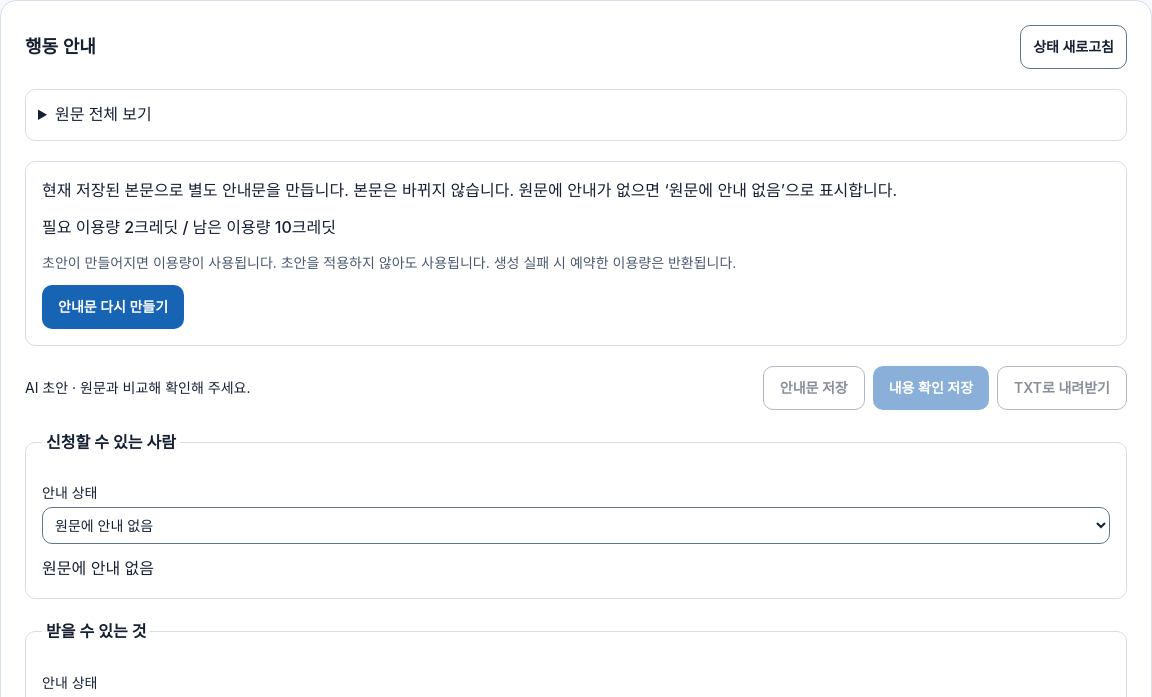
Test: 행동 안내 화면 › 409 뒤 새로고침해도 로컬 편집을 최신 revision으로 재저장하지 않는다
The width and height of the screenshot is (1152, 697).
Select "확인 필요" in the dropdown named "신청할 수 있는 사람 안내 상태": (576, 526) [42,507,1110,544]
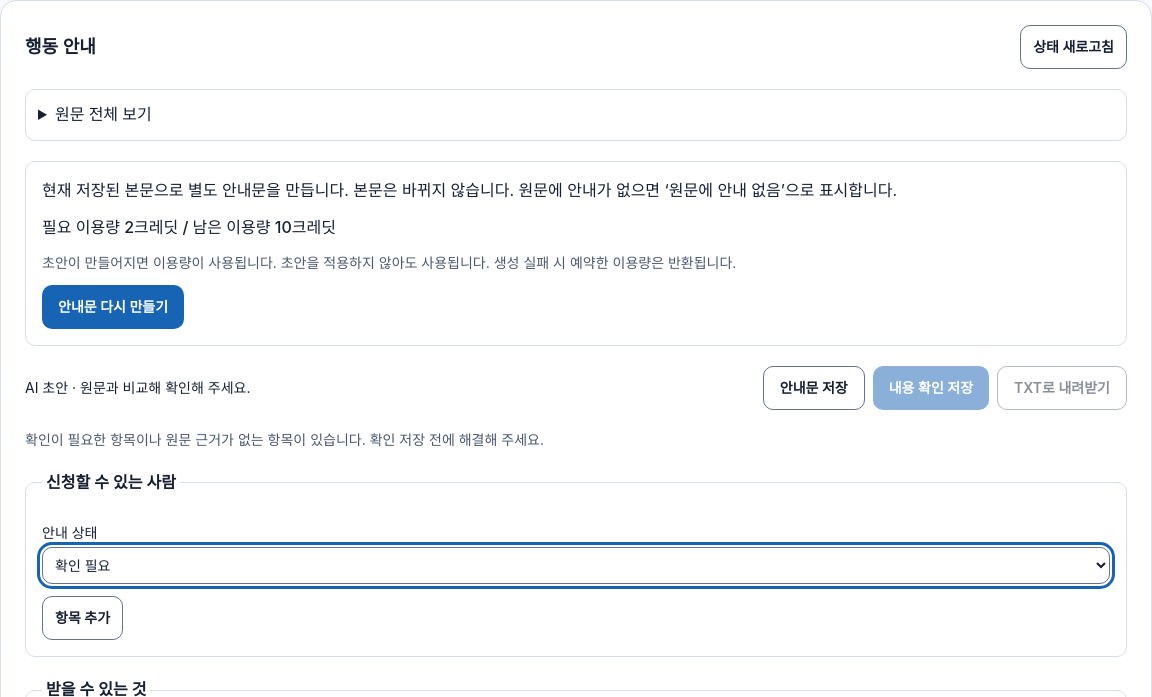
Click the button "항목 추가": (83, 618) [42,596,123,640]
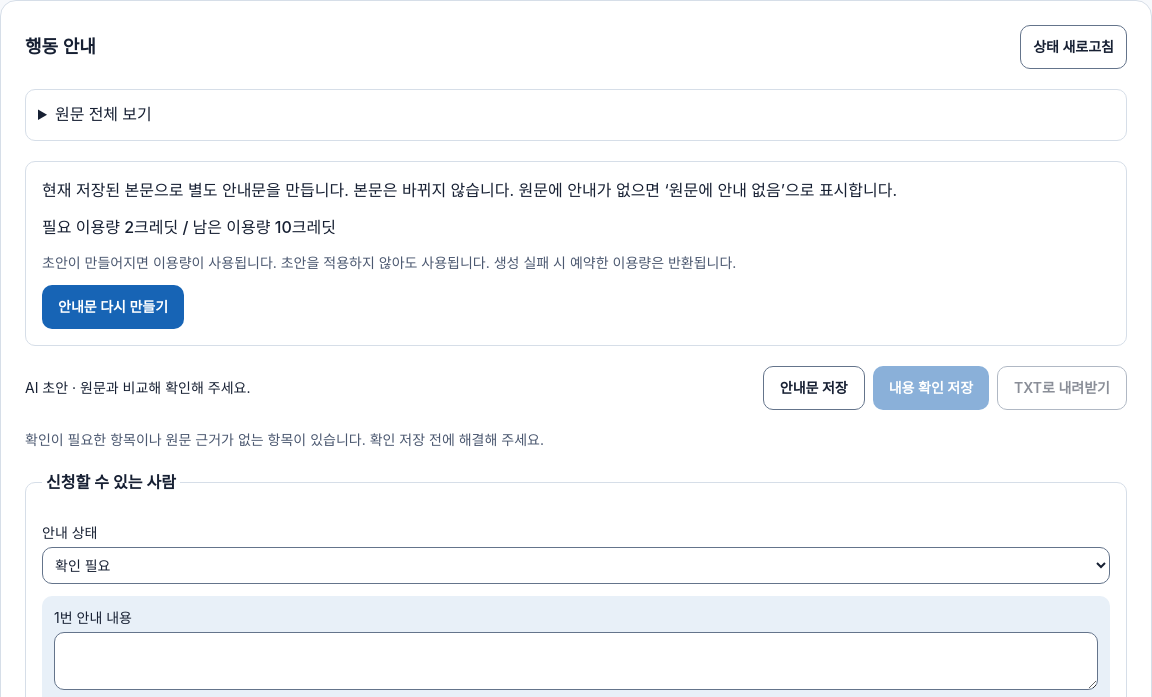
In the text box named "신청할 수 있는 사람 1번 내용": (576, 661) [54,632,1098,690], type "보존할 편집"
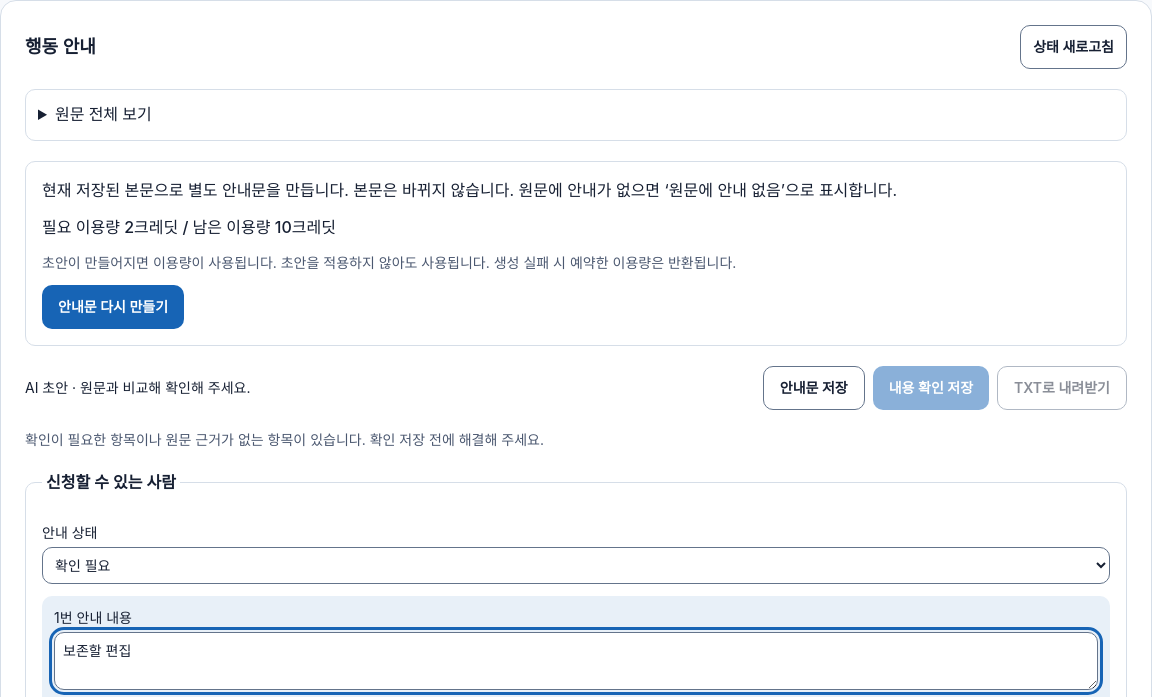
Click the button "안내문 저장": (814, 388) [763,366,865,410]
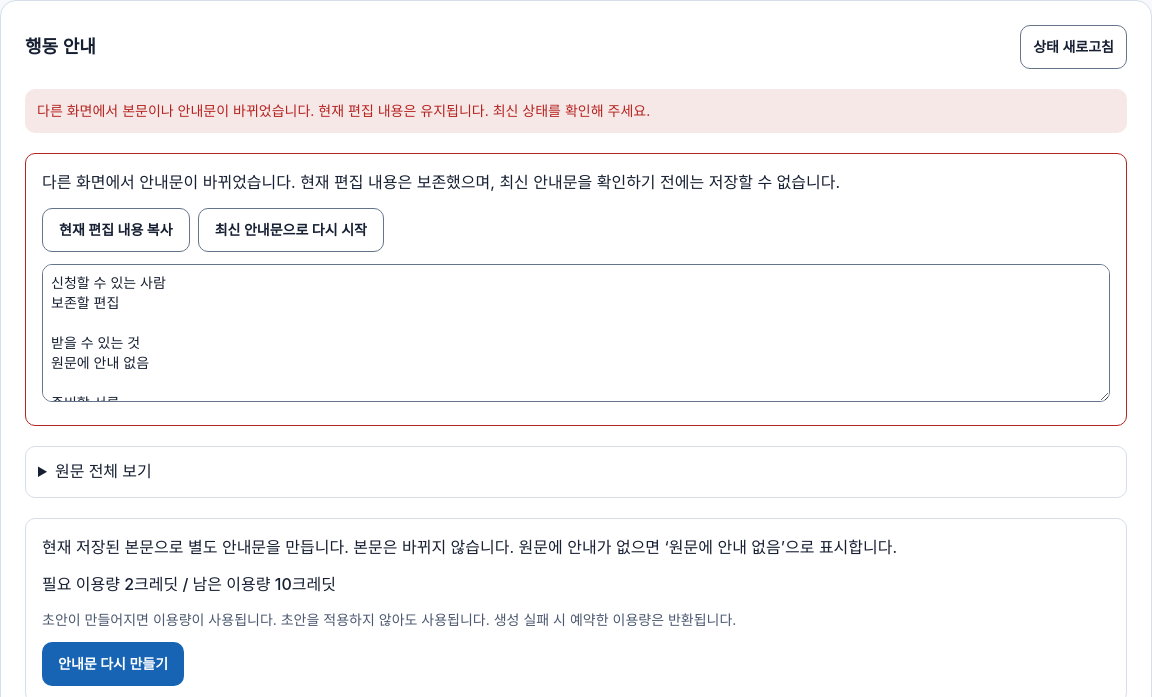
expect the button "현재 편집 내용 복사" is shown: met, box [42,208,190,252]
Click the button "상태 새로고침": (1074, 47) [1020,25,1127,69]
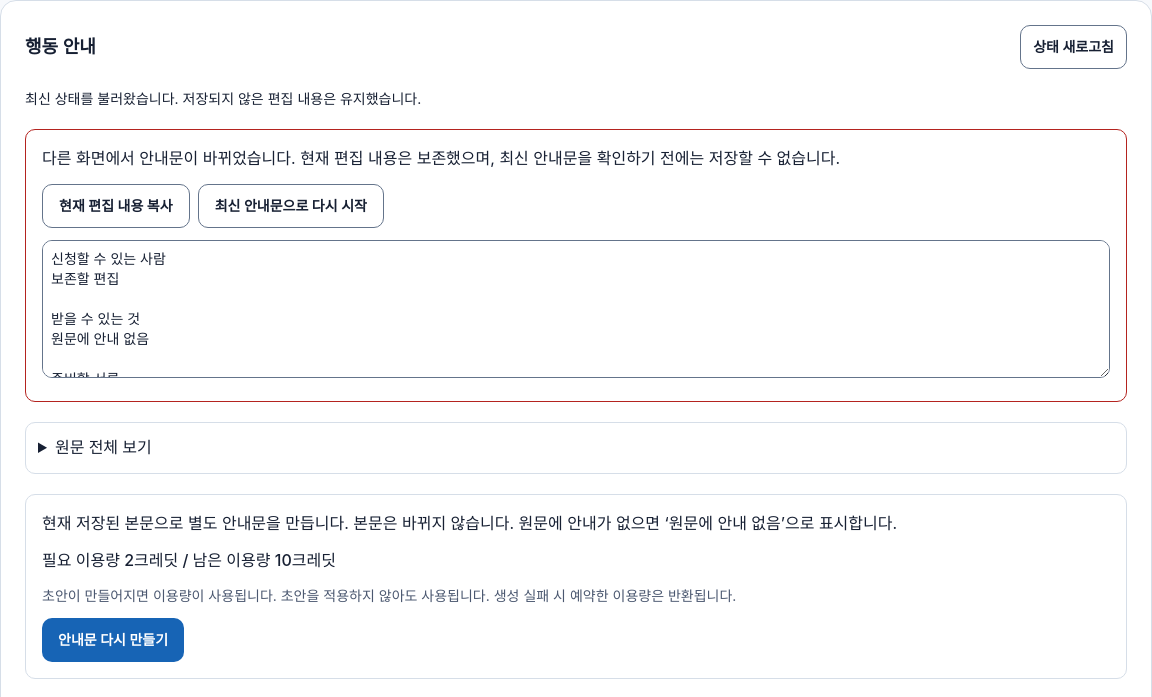
Click the button "최신 안내문으로 다시 시작": (291, 206) [198,184,384,228]
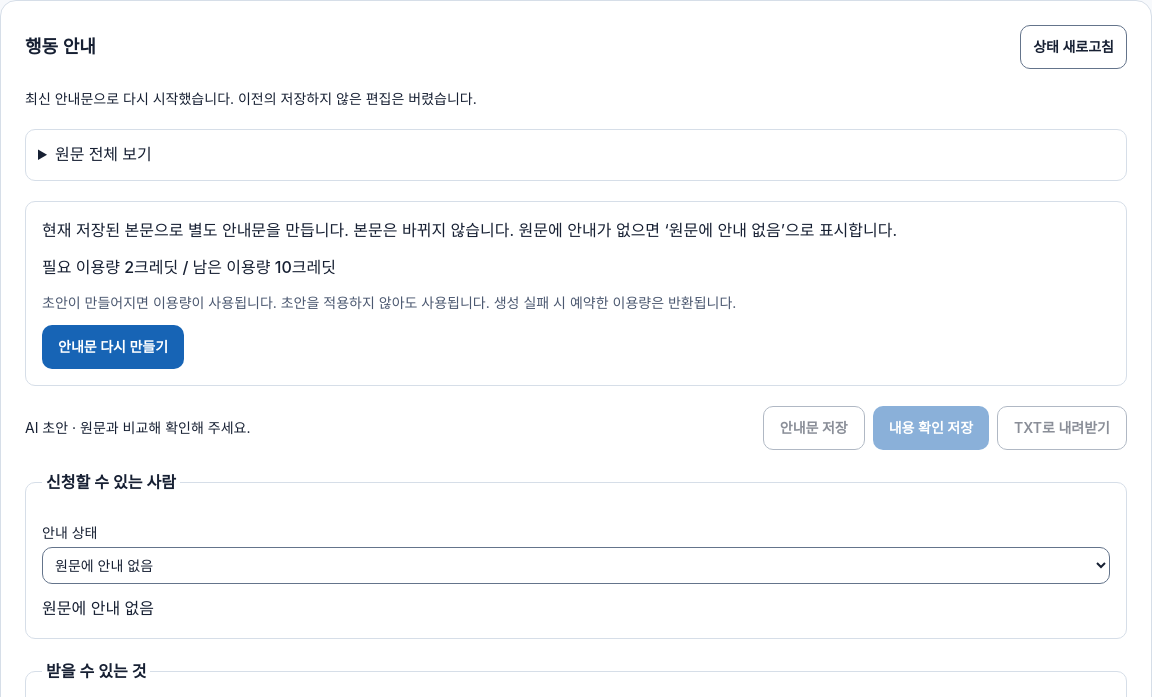
expect the button "현재 편집 내용 복사" is gone: met
